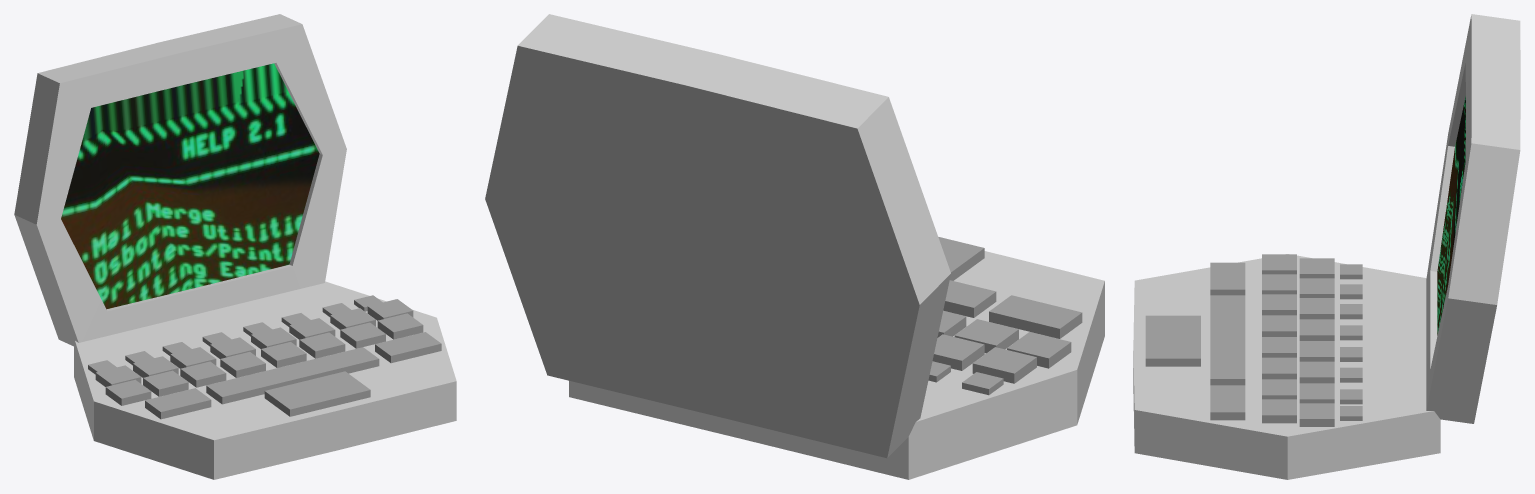
Rendered from applelaptop.fbx.
3 renders of one model, left to right at view 1: azimuth 30°, elevation 25°; view 2: azimuth 150°, elevation 25°; view 3: azimuth 270°, elevation 25°, orthographic. The views are drawn at different scales.
Visible parts, largest first — view 1: pCube63; view 2: pCube63; view 3: pCube63.
Part boxes in pixels (x1,y1,x2,y2): pCube63: (14,14,456,479); pCube63: (485,14,1104,479); pCube63: (1133,14,1520,479).
Size of the model in its own units: 11.45 by 9.08 by 10.24.
